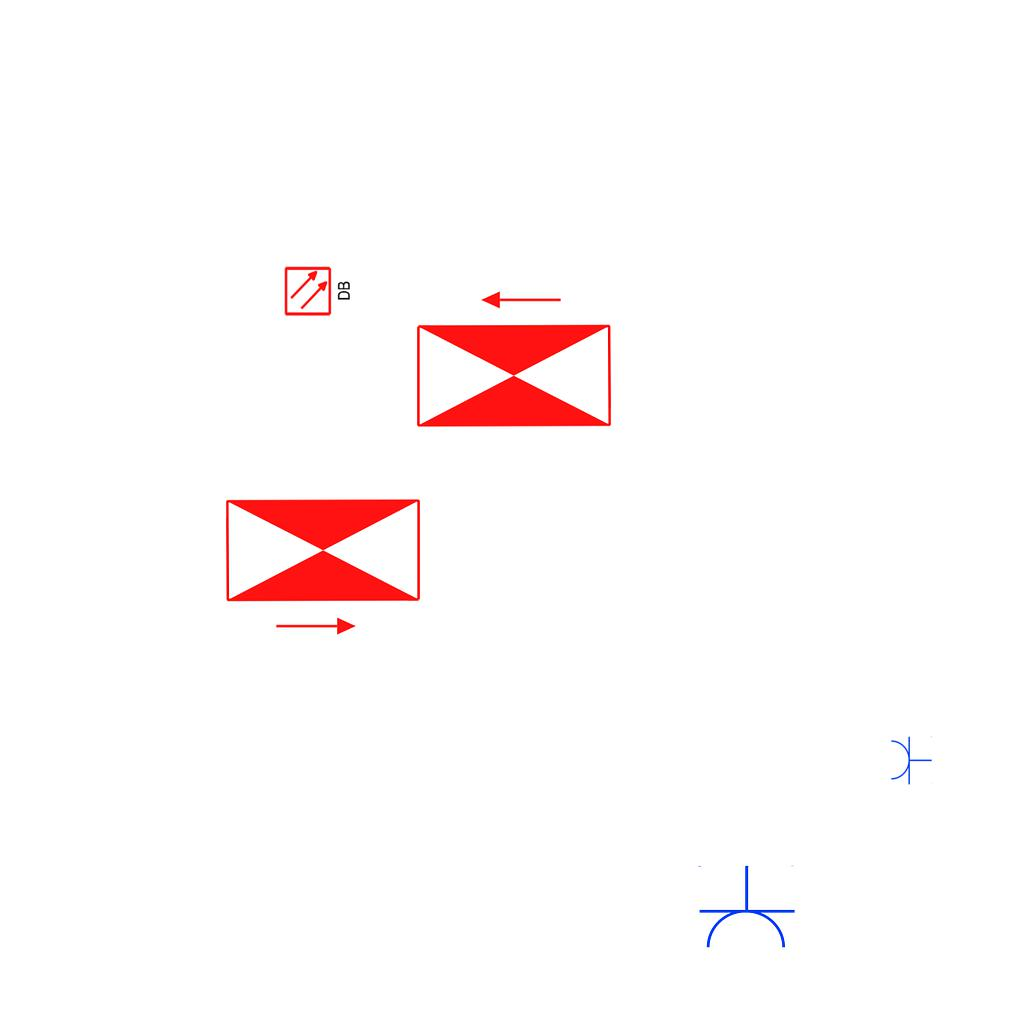DB_Melder_in_Doppelboden_mit_Revisionsoeffnung_mind_40_x_40_cm: (281, 262, 355, 319)
Fluchtwegpiktogramm: (410, 286, 618, 433), (219, 493, 427, 640)
Schukosteckdose_einfach: (696, 865, 796, 952), (889, 735, 932, 785)
